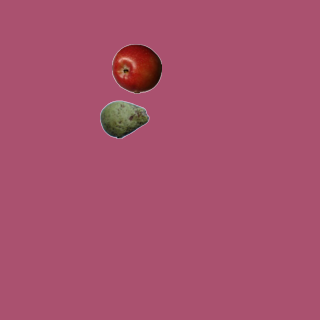Apple Braeburn: (111, 43, 161, 93)
Pear Stone: (99, 94, 149, 144)
